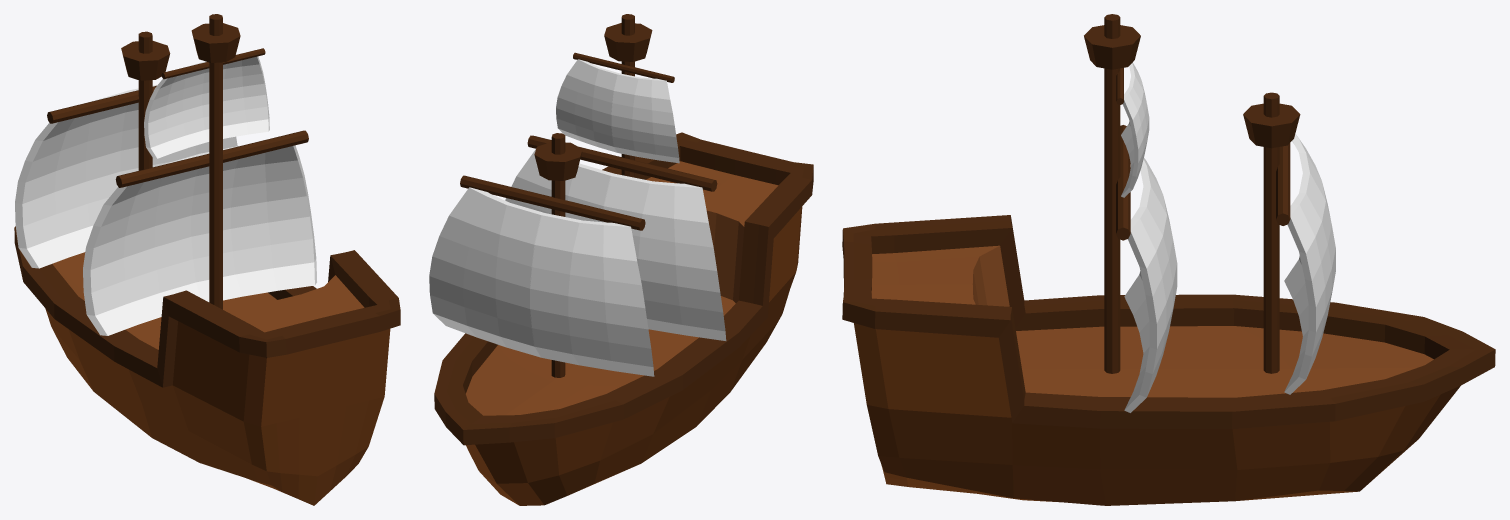
The model's file is PlayerShip.fbx.
3 renders of one model, left to right at view 1: azimuth 30°, elevation 25°; view 2: azimuth 150°, elevation 25°; view 3: azimuth 270°, elevation 25°, orthographic. The views are drawn at different scales.
Parts seen in each view (by area): view 1: Ship, Cube.002, Cube.003, Cube, Mast, Mast.001, Cylinder.001, Cylinder.002, Cylinder; view 2: Ship, Cube.003, Cube.002, Cube, Cylinder.002, Mast.001, Cylinder.001, Mast, Cylinder; view 3: Ship, Cube.002, Cube.003, Mast, Mast.001, Cube, Cylinder.001, Cylinder.002.
Part boxes in pixels (x1=…): Ship: x1=14, y1=226, x2=400, y2=505; Cube.002: x1=83, y1=145, x2=316, y2=335; Cube.003: x1=15, y1=84, x2=237, y2=268; Cube: x1=144, y1=56, x2=269, y2=158; Mast: x1=191, y1=14, x2=240, y2=309; Mast.001: x1=121, y1=31, x2=170, y2=170; Cylinder.001: x1=115, y1=130, x2=308, y2=187; Cylinder.002: x1=47, y1=85, x2=156, y2=123; Cylinder: x1=161, y1=48, x2=265, y2=79; Ship: x1=434, y1=132, x2=813, y2=505; Cube.003: x1=429, y1=187, x2=654, y2=376; Cube.002: x1=505, y1=149, x2=726, y2=340; Cube: x1=556, y1=59, x2=679, y2=163; Cylinder.002: x1=460, y1=175, x2=645, y2=230; Mast.001: x1=534, y1=133, x2=582, y2=377; Cylinder.001: x1=527, y1=135, x2=717, y2=191; Mast: x1=604, y1=14, x2=652, y2=177; Cylinder: x1=573, y1=52, x2=674, y2=82; Ship: x1=842, y1=215, x2=1495, y2=505; Cube.002: x1=1124, y1=158, x2=1177, y2=412; Cube.003: x1=1284, y1=134, x2=1335, y2=394; Mast: x1=1084, y1=14, x2=1140, y2=373; Mast.001: x1=1243, y1=92, x2=1300, y2=373; Cube: x1=1121, y1=62, x2=1149, y2=197; Cylinder.001: x1=1116, y1=125, x2=1130, y2=240; Cylinder.002: x1=1276, y1=143, x2=1290, y2=225.
Size of the model in its own units: 3741 by 6676 by 8145.
